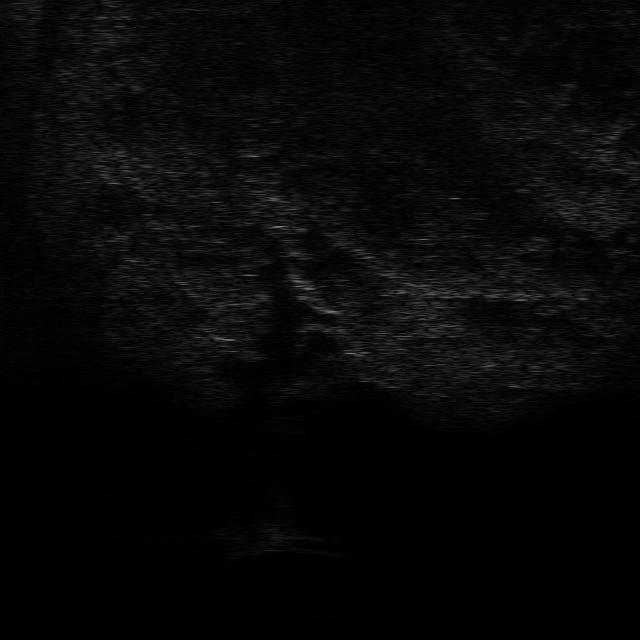plane: (220, 521, 341, 560)
